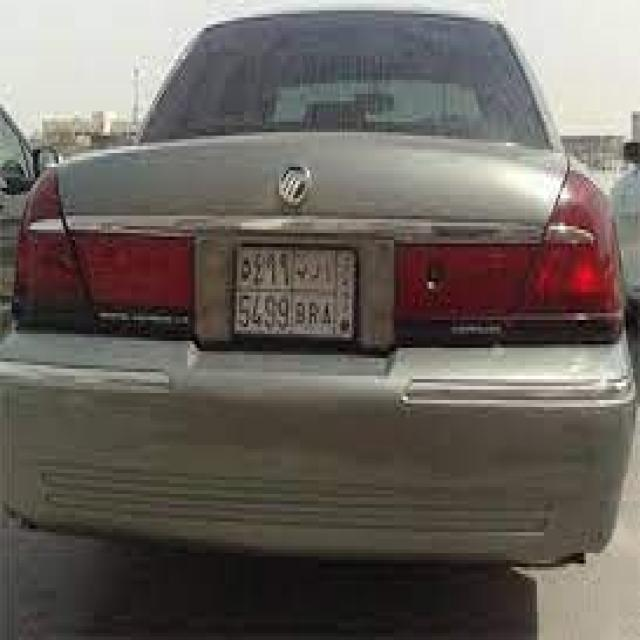license_plate: (230, 240, 361, 348)
